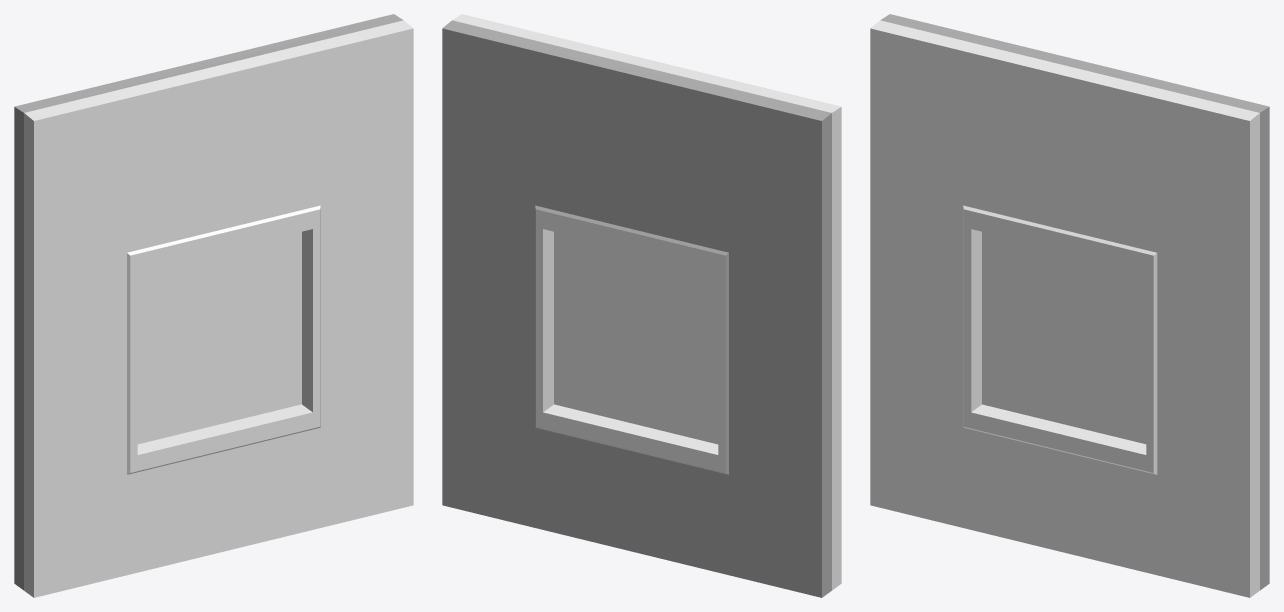
Rendered from SM_Bld_Wall_Window_01.glb.
3 renders of one model, left to right at view 1: azimuth 30°, elevation 25°; view 2: azimuth 150°, elevation 25°; view 3: azimuth 330°, elevation 25°, orthographic.
Parts seen in each view (by area): view 1: SM_Bld_Wall_Window_01; view 2: SM_Bld_Wall_Window_01; view 3: SM_Bld_Wall_Window_01.
Boxes of the visible parts, left/top/right/bottom form: SM_Bld_Wall_Window_01: left=14, top=14, right=413, bottom=597; SM_Bld_Wall_Window_01: left=442, top=14, right=841, bottom=597; SM_Bld_Wall_Window_01: left=870, top=14, right=1269, bottom=597.
Bounding box in the file's own units: 2.5 × 3.01 × 0.2556.
Materials: 4 (1 with a texture image).
